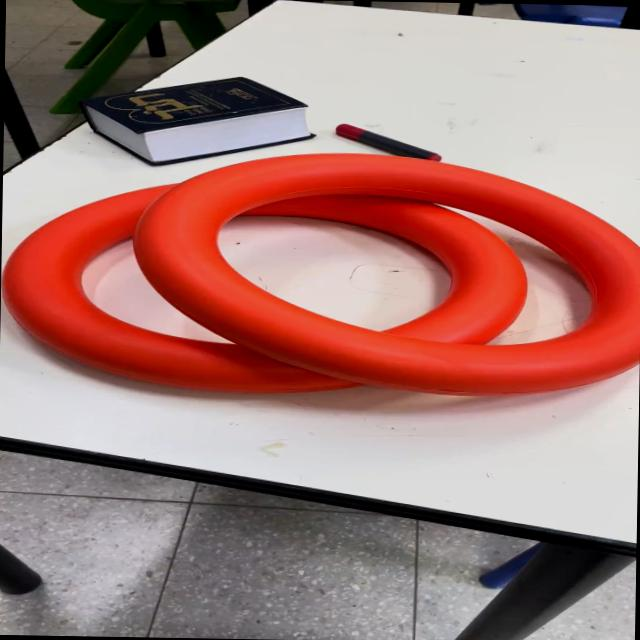note: (126, 148, 640, 403), (0, 176, 531, 400)
